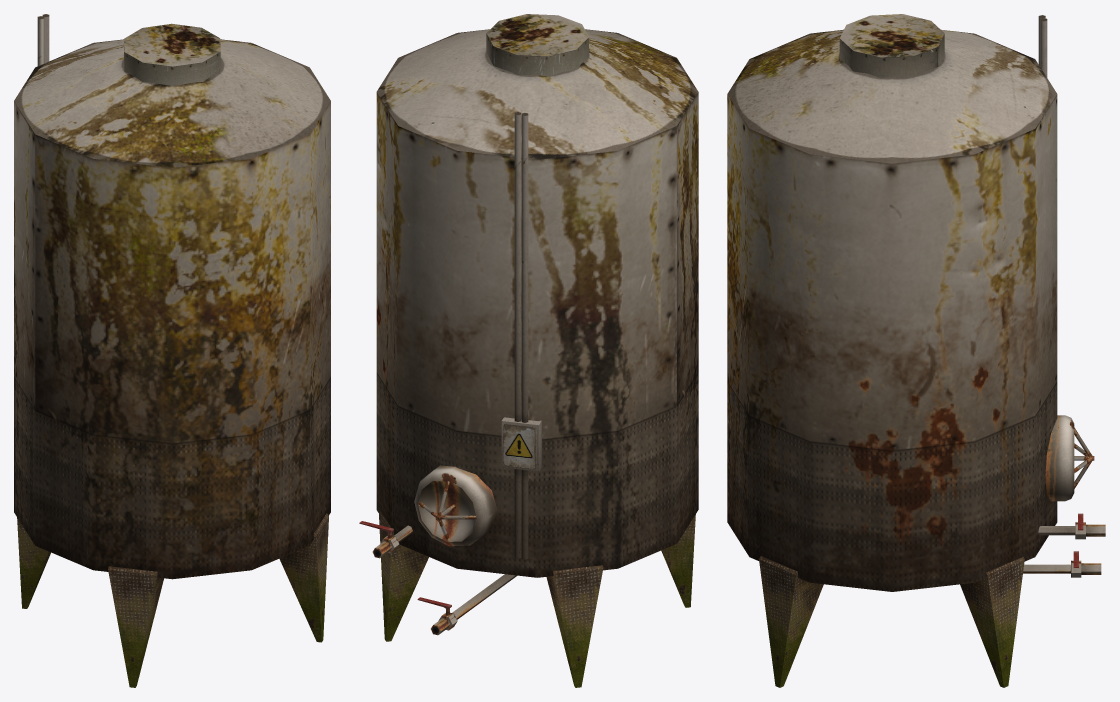
File: vats01.obj
The picture shows the model from 3 angles, left to right: view 1: azimuth 30°, elevation 25°; view 2: azimuth 150°, elevation 25°; view 3: azimuth 270°, elevation 25°; orthographic projection. The views are drawn at different scales.
Visible parts, largest first — view 1: VatsBody, VatsFeet002, VatsFeet01, VatsFeet003; view 2: VatsBody, VatsHandle, VatsFeet003, VatsTubing01, VatsTubing02, VatsFeet004, VatsTubeBox, VatsFeet002, VatsFaucet01, VatsFaucet02; view 3: VatsBody, VatsFeet01, VatsFeet004, VatsHandle, VatsFaucet01, VatsFaucet02.
Part boxes in pixels (x1,y1,x2,y2): VatsBody: [14, 23, 330, 579]; VatsFeet002: [108, 566, 163, 687]; VatsFeet01: [279, 513, 328, 642]; VatsFeet003: [17, 517, 50, 608]; VatsBody: [376, 14, 698, 577]; VatsHandle: [414, 465, 497, 546]; VatsFeet003: [546, 565, 603, 687]; VatsTubing01: [514, 112, 521, 558]; VatsTubing02: [521, 113, 528, 559]; VatsFeet004: [379, 511, 428, 641]; VatsTubeBox: [501, 417, 541, 471]; VatsFeet002: [661, 514, 695, 607]; VatsFaucet01: [431, 574, 516, 635]; VatsFaucet02: [372, 525, 412, 558]; VatsBody: [727, 14, 1057, 591]; VatsFeet01: [759, 556, 823, 687]; VatsFeet004: [960, 557, 1024, 687]; VatsHandle: [1045, 415, 1094, 501]; VatsFaucet01: [1023, 560, 1101, 577]; VatsFaucet02: [1038, 522, 1105, 539].
Bounding box in the file's own units: 2.5 × 5.04 × 2.87.
